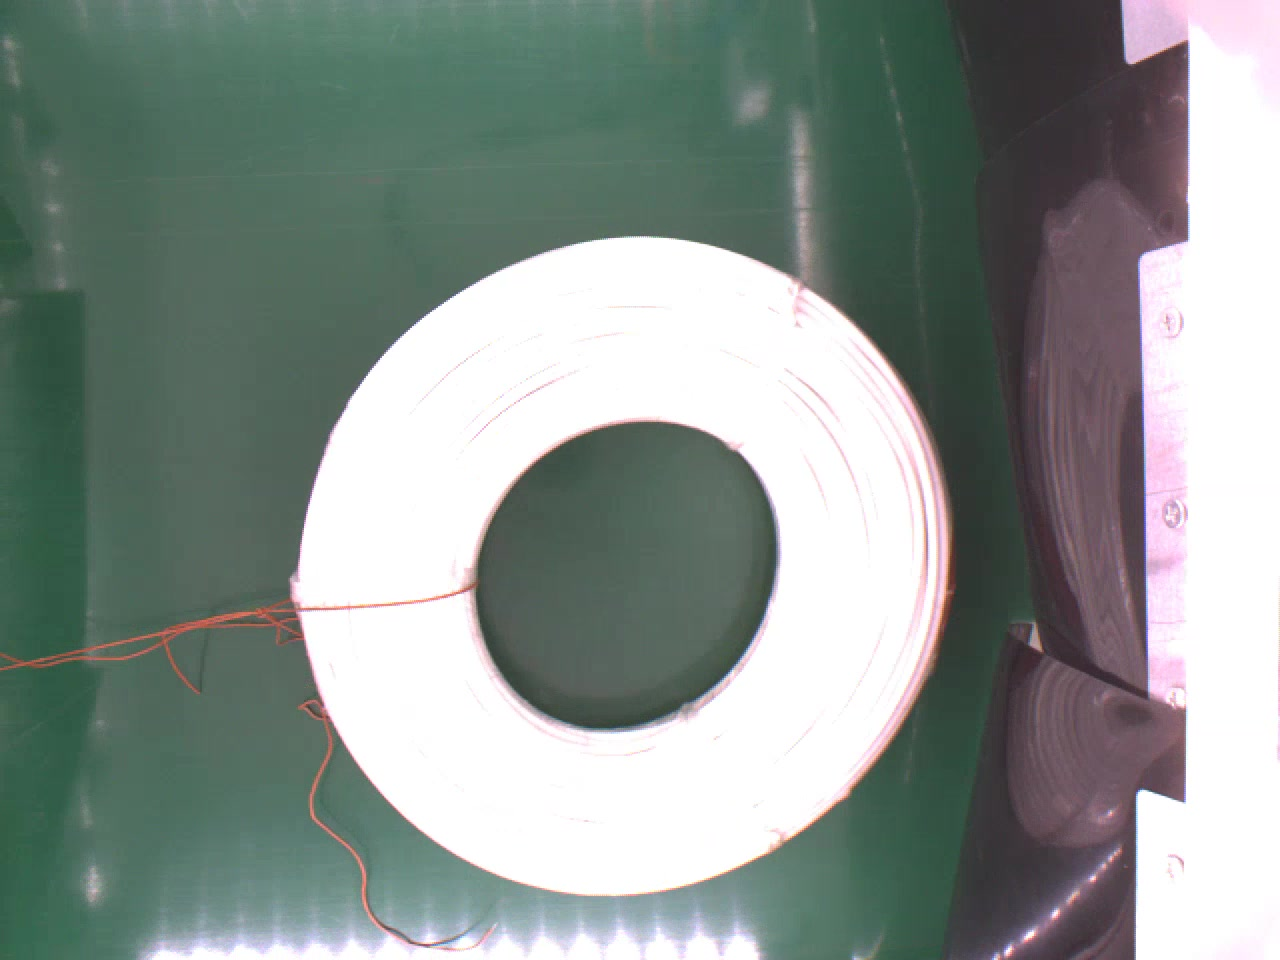white: (288, 231, 966, 902)
